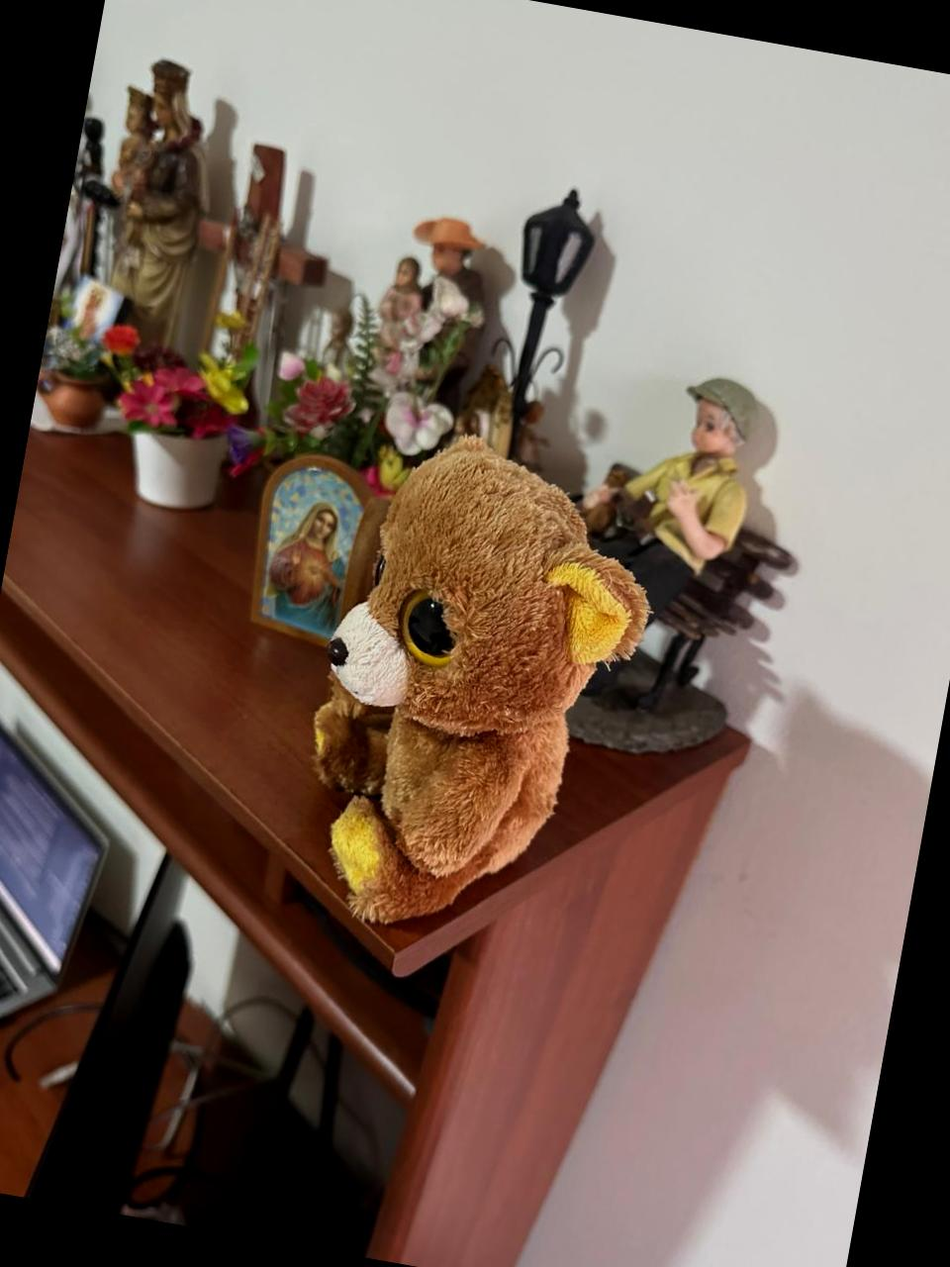peluche_sebastian: (271, 417, 676, 965)
